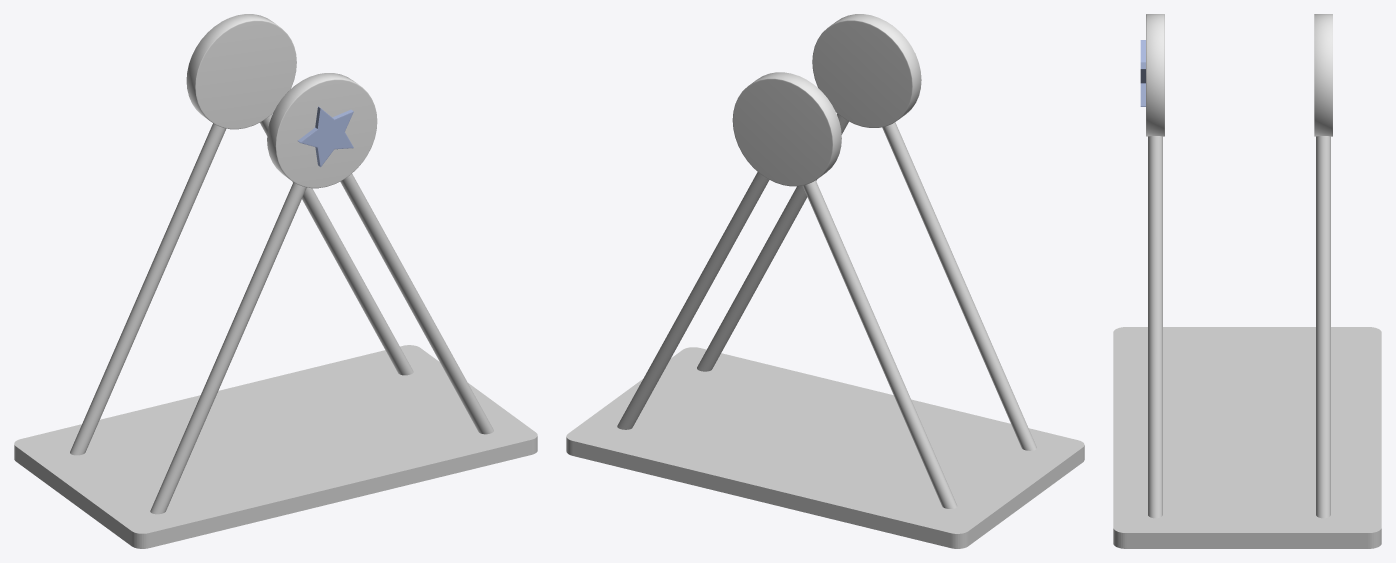
File: FerrisWheel01.glb
3 views of the same model, side by side, from view 1: azimuth 30°, elevation 25°; view 2: azimuth 150°, elevation 25°; view 3: azimuth 270°, elevation 25° (orthographic). The views are drawn at different scales.
Parts seen in each view (by area): view 1: FerrisWheel00, Cylinder.004, Cylinder.016, Cylinder.015, Cylinder.017, Cylinder.018, Cylinder.014, Star; view 2: FerrisWheel00, Cylinder.004, Cylinder.016, Cylinder.015, Cylinder.017, Cylinder.014, Cylinder.018; view 3: FerrisWheel00, Cylinder.014, Cylinder.018, Cylinder.004, Cylinder.016, Star.
Part boxes in pixels (box(x1,y1,x2,y2)): FerrisWheel00: box(14, 345, 537, 548); Cylinder.004: box(186, 14, 296, 129); Cylinder.016: box(267, 73, 377, 188); Cylinder.015: box(70, 123, 226, 455); Cylinder.017: box(150, 182, 306, 514); Cylinder.018: box(340, 174, 493, 434); Cylinder.014: box(260, 114, 413, 375); Star: box(298, 106, 353, 167); FerrisWheel00: box(566, 347, 1084, 548); Cylinder.004: box(732, 72, 841, 186); Cylinder.016: box(812, 14, 921, 127); Cylinder.015: box(803, 180, 957, 508); Cylinder.017: box(882, 122, 1036, 450); Cylinder.014: box(617, 172, 769, 429); Cylinder.018: box(697, 113, 848, 371); FerrisWheel00: box(1113, 327, 1381, 548); Cylinder.014: box(1316, 136, 1330, 518); Cylinder.018: box(1148, 136, 1162, 518); Cylinder.004: box(1314, 14, 1332, 136); Cylinder.016: box(1146, 14, 1164, 136); Star: box(1140, 40, 1145, 106).
Size of the model in its own units: 2.1 by 2.03 by 1.16.
